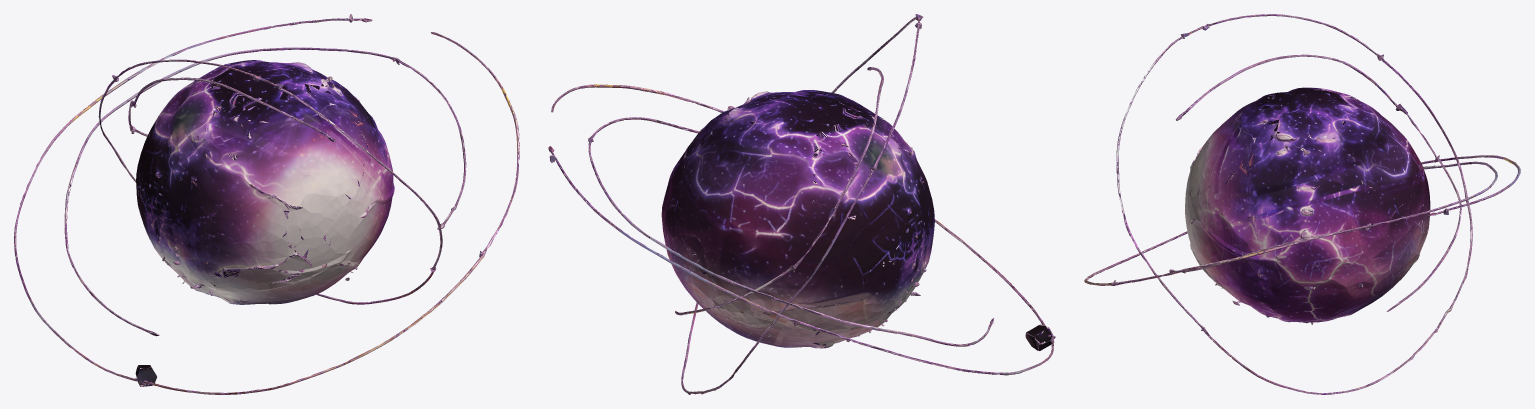
The model's file is energy-bolt-web.glb.
3 renders of one model, left to right at view 1: azimuth 30°, elevation 25°; view 2: azimuth 150°, elevation 25°; view 3: azimuth 270°, elevation 25°, orthographic. The views are drawn at different scales.
Visible parts, largest first — view 1: world; view 2: world; view 3: world.
Part boxes in pixels (x1,y1,x2,y2): world: [14, 14, 519, 394]; world: [548, 14, 1055, 394]; world: [1084, 14, 1520, 394].
Bounding box in the file's own units: 2 × 1.39 × 1.83.
Materials: 1 (1 with a texture image).
